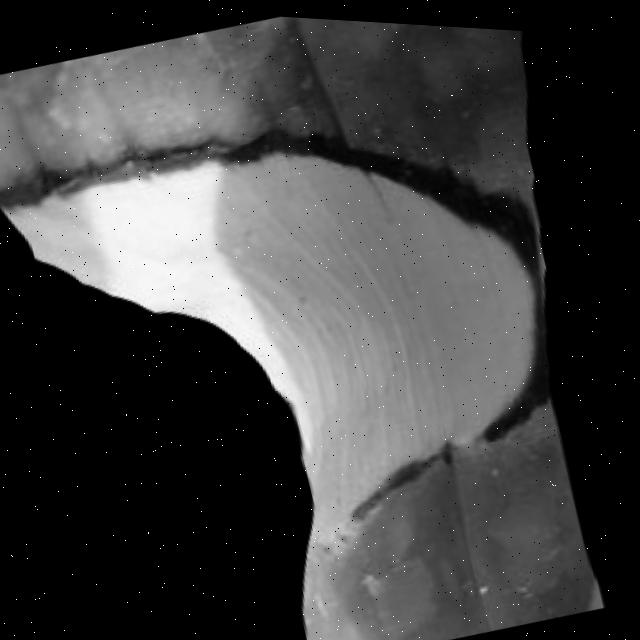mite: (0, 107, 359, 640), (252, 390, 613, 640), (355, 466, 590, 640), (357, 555, 394, 596), (489, 452, 509, 472)
sunburn: (0, 62, 608, 610)
